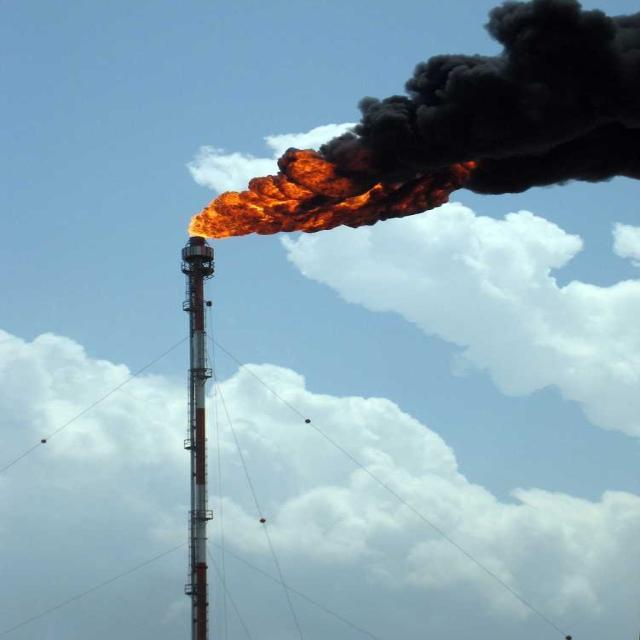Fire: (263, 168, 324, 232), (194, 190, 250, 240)
Smoke: (510, 20, 640, 188), (404, 64, 508, 157)
